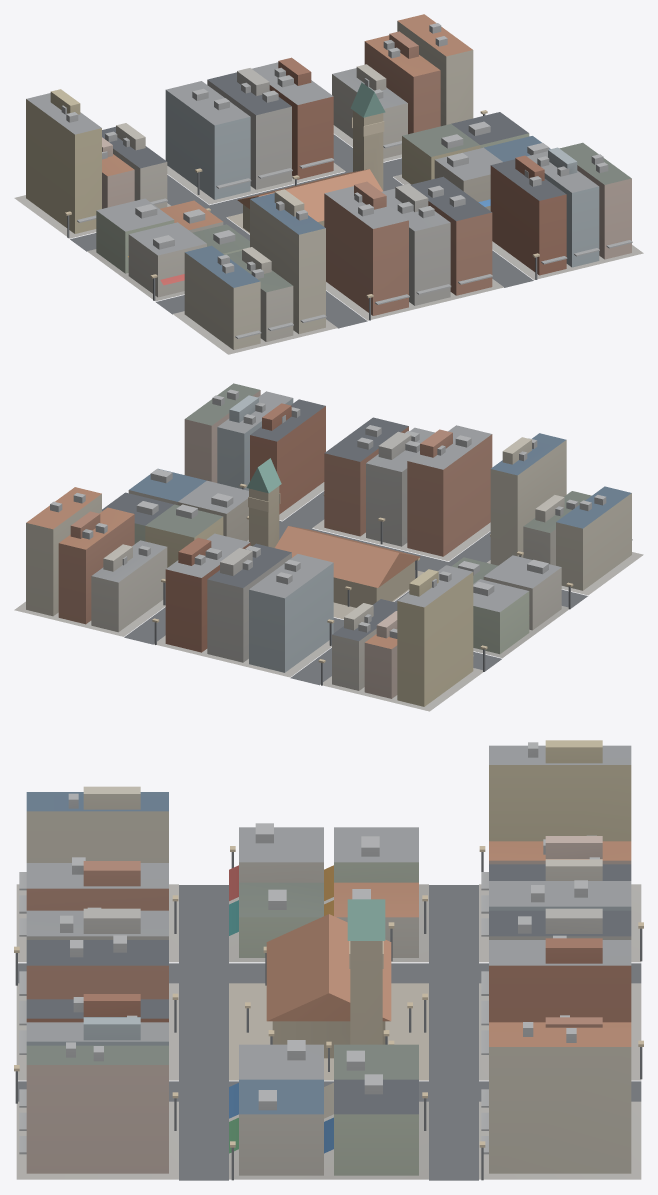
File: district_market_square.glb
The picture shows the model from 3 angles, top to bottom: view 1: azimuth 30°, elevation 25°; view 2: azimuth 150°, elevation 25°; view 3: azimuth 270°, elevation 25°; orthographic projection. The views are drawn at different scales.
Visible parts, largest first — view 1: district_market_square; view 2: district_market_square; view 3: district_market_square.
Part boxes in pixels (<box>): district_market_square: <box>14,14,643,354</box>; district_market_square: <box>14,383,643,711</box>; district_market_square: <box>14,740,643,1180</box>.
Size of the model in its own units: 113 by 30.15 by 101.
